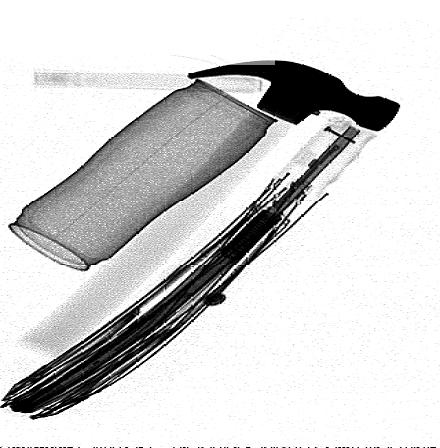Hammer: (13, 60, 402, 360)
